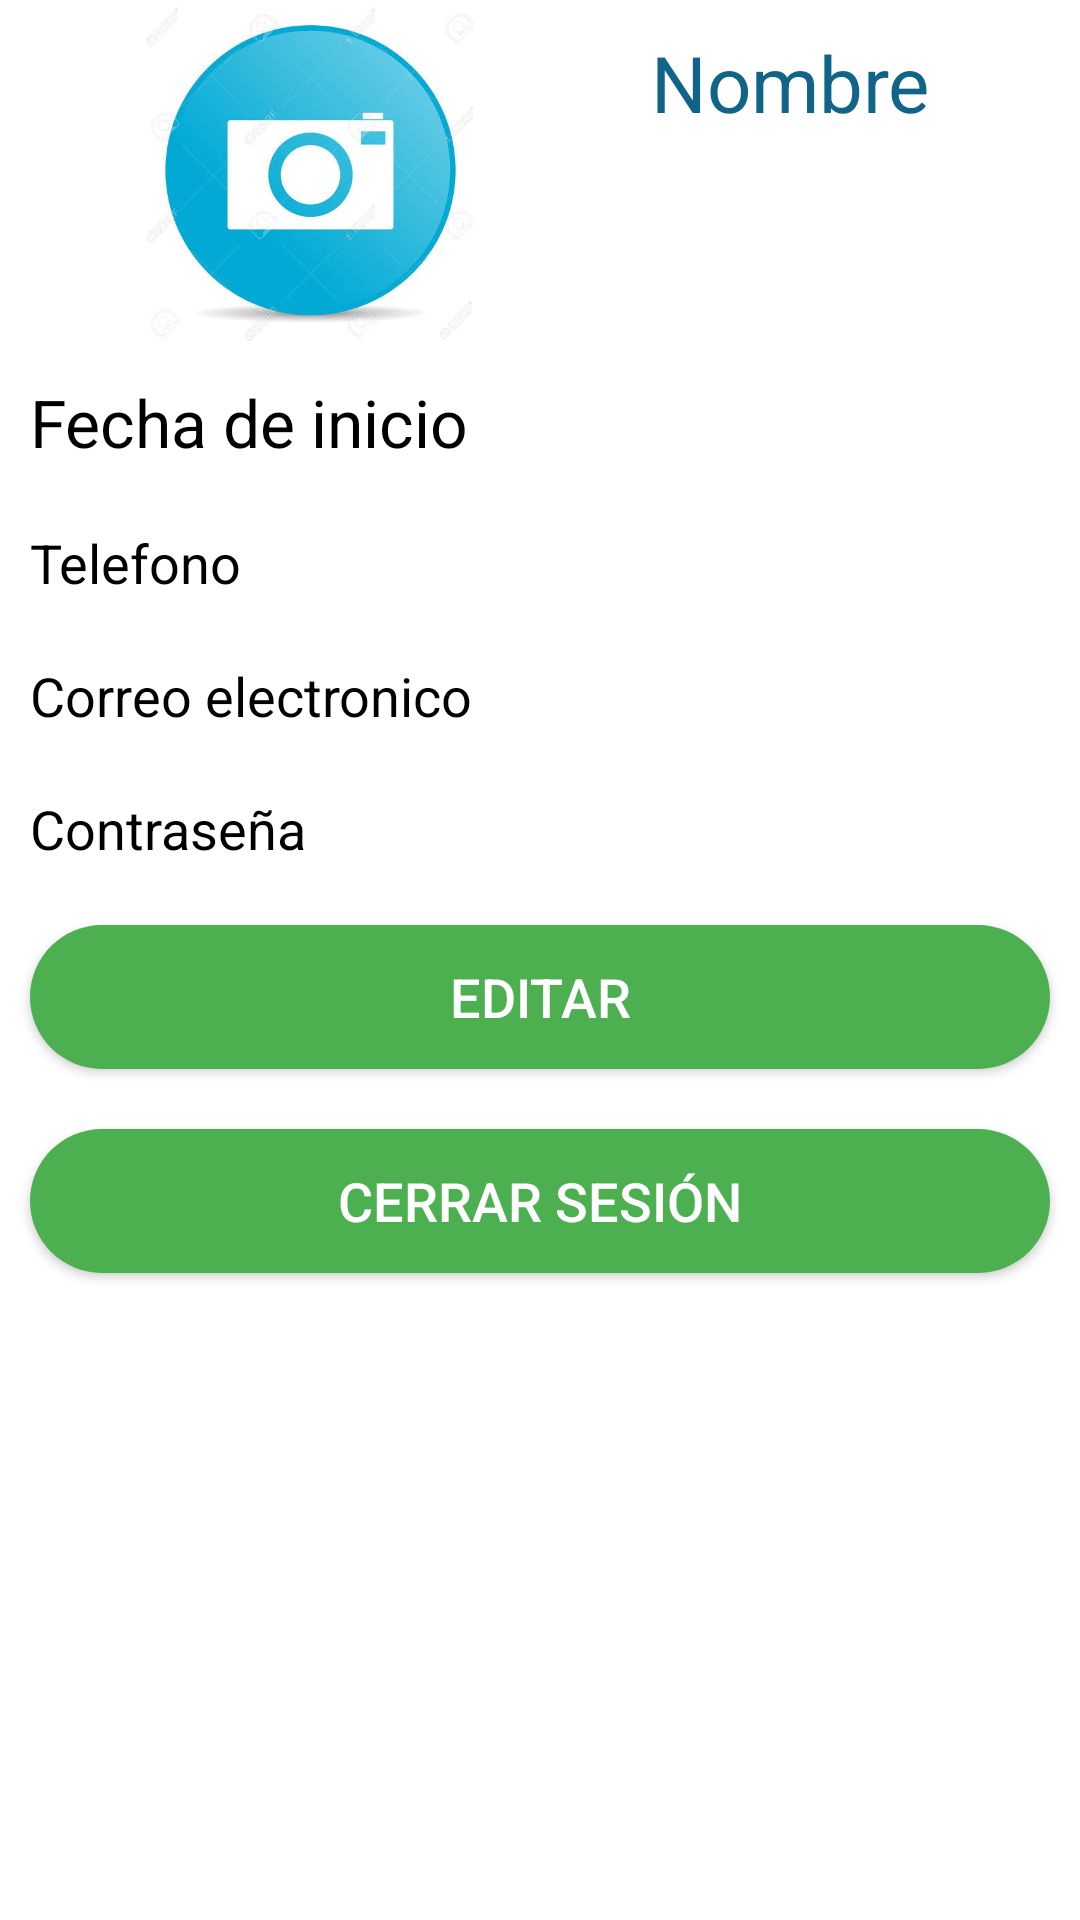

Where icons sit on this 1080px×1920px app screen, as detection(x1, y1, x2, y2):
foto: detection(151, 25, 471, 321)
